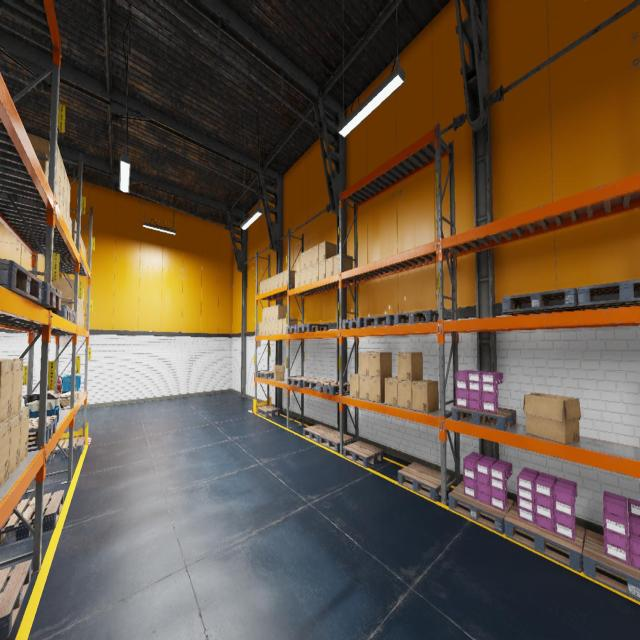box: (523, 393, 581, 444), (26, 132, 61, 189), (0, 358, 23, 418), (412, 379, 439, 413), (0, 359, 13, 425), (8, 412, 21, 478), (52, 277, 78, 305), (397, 353, 423, 381), (0, 419, 10, 487), (369, 376, 392, 403), (19, 407, 29, 465), (369, 352, 392, 377), (34, 149, 48, 181), (397, 380, 412, 409), (384, 377, 398, 406), (333, 254, 352, 275), (319, 241, 336, 262), (56, 298, 74, 314), (359, 375, 369, 401), (282, 317, 298, 333), (359, 352, 369, 376), (60, 388, 77, 401), (350, 374, 359, 398), (283, 270, 297, 285), (274, 304, 287, 320), (272, 365, 285, 380), (60, 157, 64, 199), (64, 168, 68, 207), (55, 180, 60, 208), (326, 257, 333, 277), (71, 218, 76, 244), (312, 244, 318, 265), (319, 260, 325, 280), (306, 248, 312, 268), (312, 263, 318, 282), (300, 251, 306, 270), (306, 265, 312, 284), (294, 270, 300, 288), (67, 179, 70, 214), (60, 190, 64, 216), (300, 268, 305, 286), (59, 398, 70, 406), (66, 208, 70, 230), (63, 200, 66, 223), (278, 318, 282, 334), (279, 271, 283, 287), (69, 216, 72, 236), (274, 320, 278, 334), (270, 320, 274, 334), (266, 321, 270, 335), (270, 306, 274, 320), (266, 307, 270, 321), (262, 308, 266, 322), (274, 274, 278, 288), (270, 276, 274, 290), (262, 322, 266, 335), (60, 391, 70, 396), (78, 305, 80, 326), (82, 288, 84, 309), (259, 322, 262, 336), (267, 278, 270, 292), (263, 279, 266, 293), (81, 308, 83, 328), (76, 392, 80, 399), (82, 240, 84, 253), (260, 281, 262, 294), (80, 298, 82, 308), (80, 307, 81, 326), (83, 310, 84, 328), (55, 179, 56, 194), (81, 236, 82, 249), (84, 244, 85, 256), (85, 248, 86, 260), (80, 234, 81, 242), (79, 298, 80, 306), (78, 304, 78, 324)
pallets: (504, 502, 585, 572), (582, 529, 640, 602), (0, 490, 64, 545), (448, 481, 514, 534), (0, 560, 32, 639), (502, 288, 581, 316), (398, 462, 450, 502), (577, 279, 640, 310), (0, 258, 42, 303), (451, 405, 516, 431), (343, 441, 383, 467), (46, 437, 85, 461), (28, 415, 57, 447), (34, 282, 62, 310), (319, 430, 354, 452), (394, 310, 438, 325), (304, 424, 334, 443), (318, 381, 349, 395), (303, 378, 334, 391), (364, 315, 394, 327), (52, 310, 76, 324), (287, 376, 316, 387), (342, 318, 370, 329), (297, 323, 328, 332), (257, 406, 280, 418), (57, 304, 71, 322), (257, 371, 273, 379), (286, 325, 299, 333)
